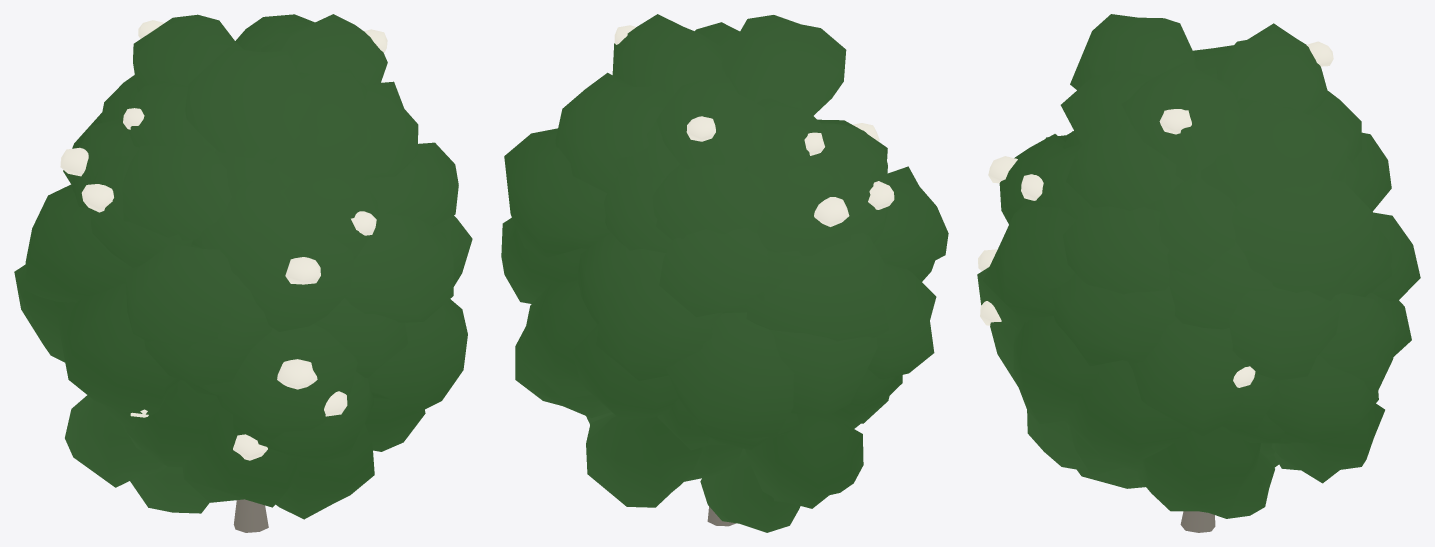
The model's file is Blender_Magnolia_2.glb.
3 renders of one model, left to right at view 1: azimuth 30°, elevation 25°; view 2: azimuth 150°, elevation 25°; view 3: azimuth 270°, elevation 25°, orthographic. The views are drawn at different scales.
Parts seen in each view (by area): view 1: Blender_Magnolia_2; view 2: Blender_Magnolia_2; view 3: Blender_Magnolia_2.
Part boxes in pixels (<box>): Blender_Magnolia_2: <box>14,14,472,532</box>; Blender_Magnolia_2: <box>501,14,948,532</box>; Blender_Magnolia_2: <box>977,14,1420,532</box>.
Size of the model in its own units: 13.55 by 16.19 by 13.19.
